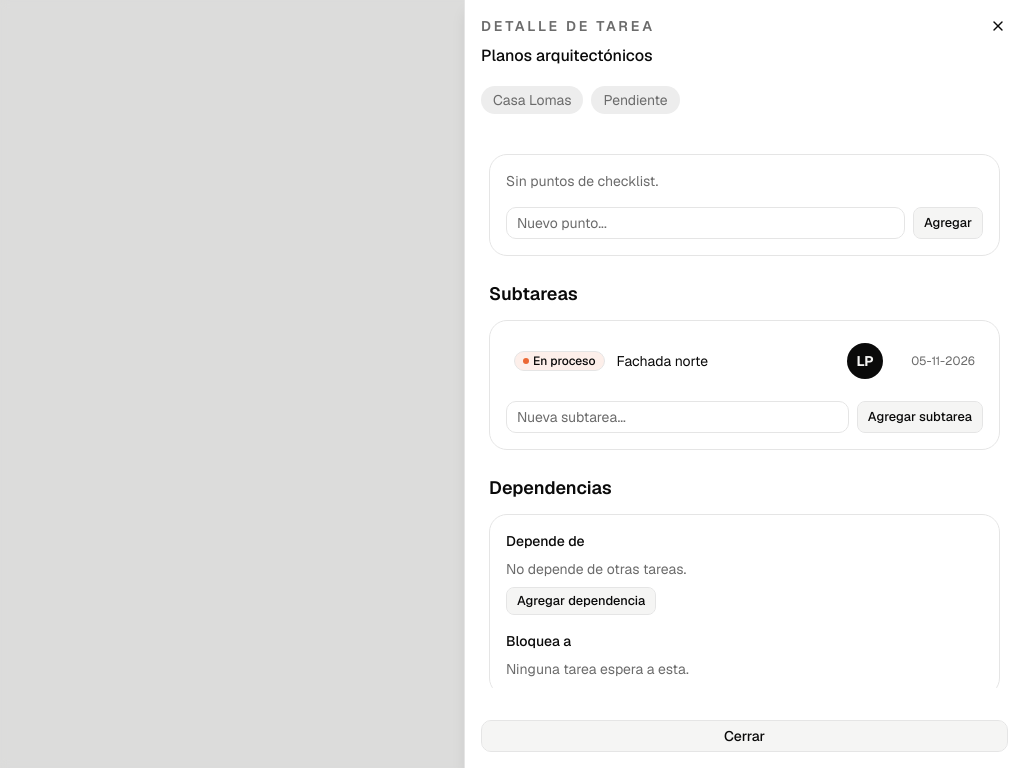
TaskDrawer Subtareas › shows Spanish copy when adding fails
(page scrolled)
Expected: the text "Fachada norte" is shown, [616,352,708,370]
In the field named "Título de la subtarea": (677, 417) [506,401,849,433], type "Otra"
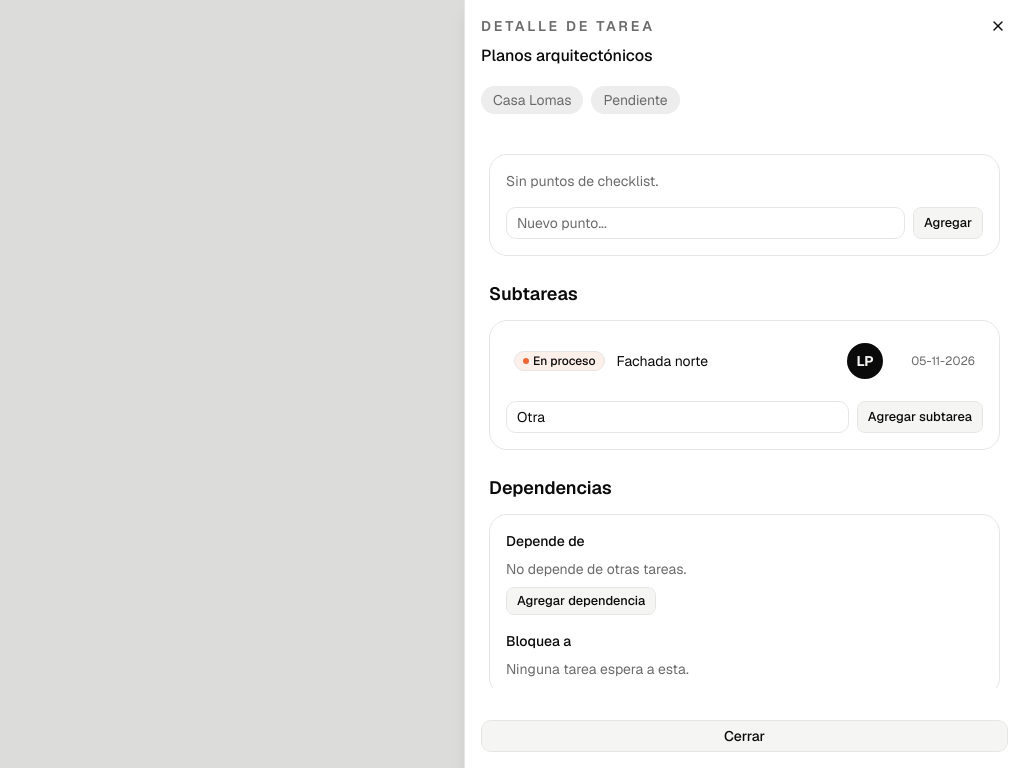
Click the button "Agregar subtarea": (920, 417) [857,401,983,433]
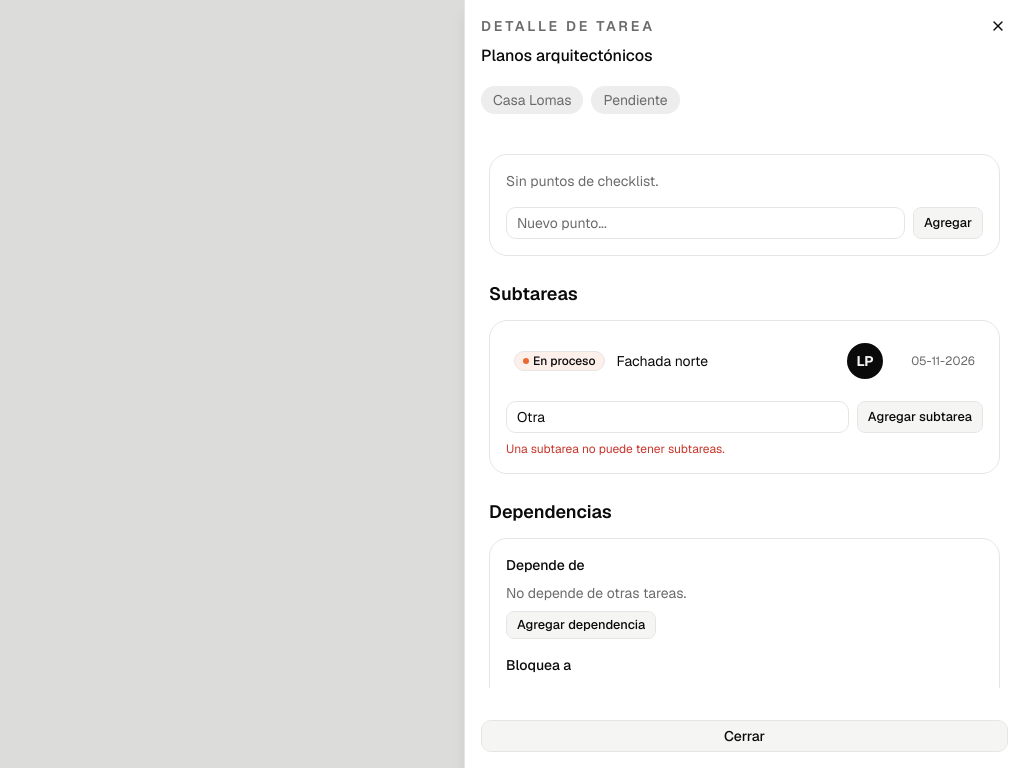
Now the text "Una subtarea no puede tener subtareas." is shown, box [506,441,725,457]
